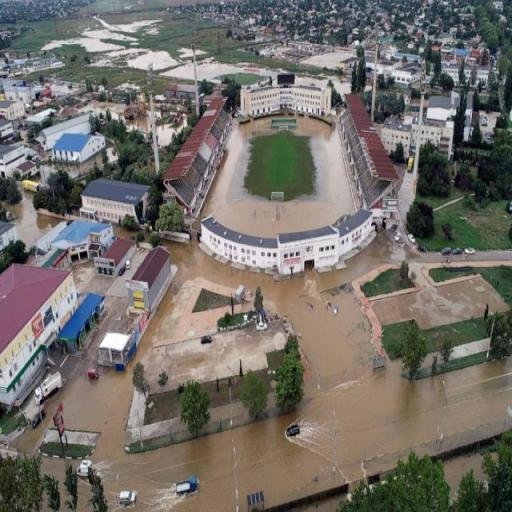flood: (44, 232, 512, 512), (202, 118, 354, 237), (42, 28, 193, 80), (136, 290, 175, 361), (14, 196, 57, 244), (197, 58, 274, 83), (42, 458, 72, 512), (156, 104, 186, 146), (113, 104, 151, 136), (39, 161, 93, 182), (93, 16, 162, 32), (14, 427, 42, 455), (78, 481, 90, 512), (107, 145, 119, 160), (178, 47, 192, 56), (197, 50, 206, 55)
house: (201, 203, 376, 278), (0, 248, 70, 407), (161, 98, 230, 208), (342, 97, 396, 200), (80, 178, 160, 234), (243, 77, 329, 120), (48, 218, 111, 264), (127, 245, 173, 308), (61, 290, 101, 350), (50, 130, 108, 162), (92, 233, 134, 276), (412, 118, 456, 150), (0, 143, 38, 177), (469, 112, 499, 140), (442, 64, 490, 80), (4, 80, 35, 104), (425, 92, 453, 118), (395, 62, 422, 84), (0, 98, 26, 120), (455, 49, 468, 62), (468, 50, 481, 62)
